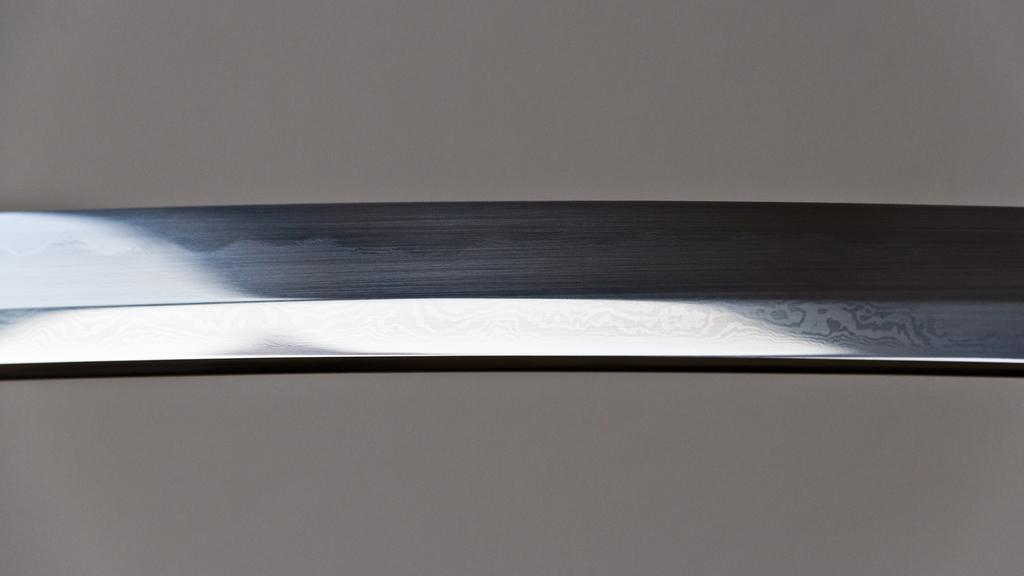Sword: (0, 197, 1023, 372)
